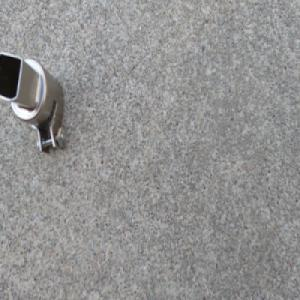MetalPart: (0, 49, 66, 155)
